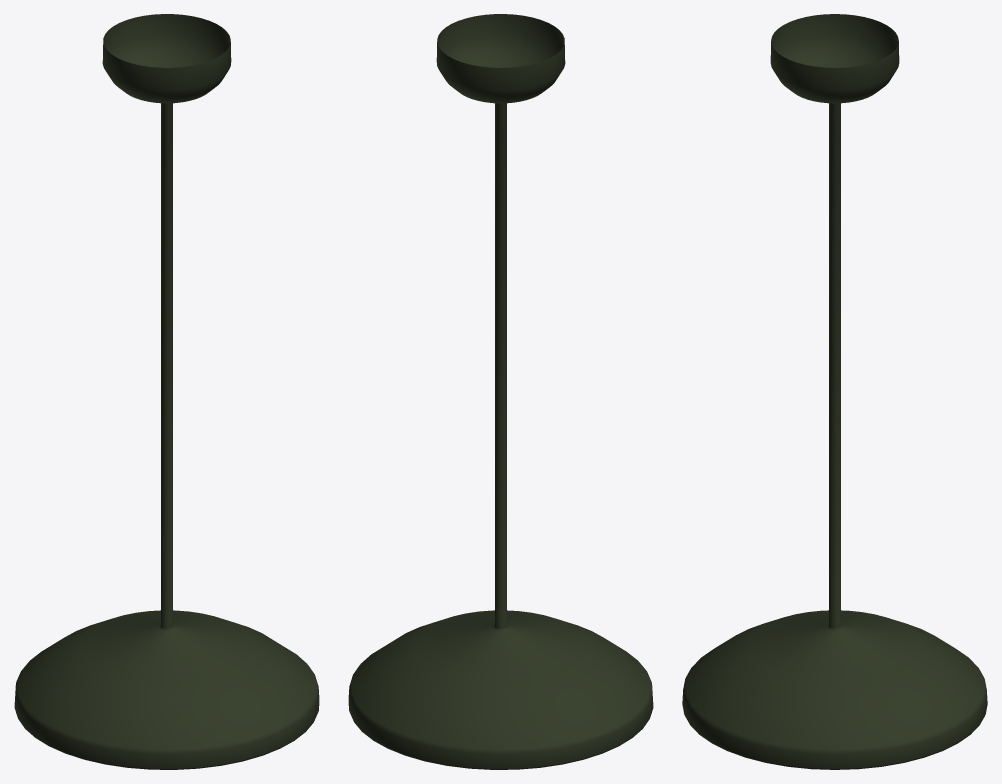
The model's file is CeilingLamp.fbx.
3 views of the same model, side by side, from view 1: azimuth 30°, elevation 25°; view 2: azimuth 150°, elevation 25°; view 3: azimuth 270°, elevation 25° (orthographic).
Parts seen in each view (by area): view 1: CeilingLamp; view 2: CeilingLamp; view 3: CeilingLamp.
Part boxes in pixels (left/top/right/bottom): CeilingLamp: left=14, top=14, right=319, bottom=769; CeilingLamp: left=348, top=14, right=653, bottom=769; CeilingLamp: left=682, top=14, right=987, bottom=769.
Bounding box in the file's own units: 33.94 × 81.6 × 33.94.
